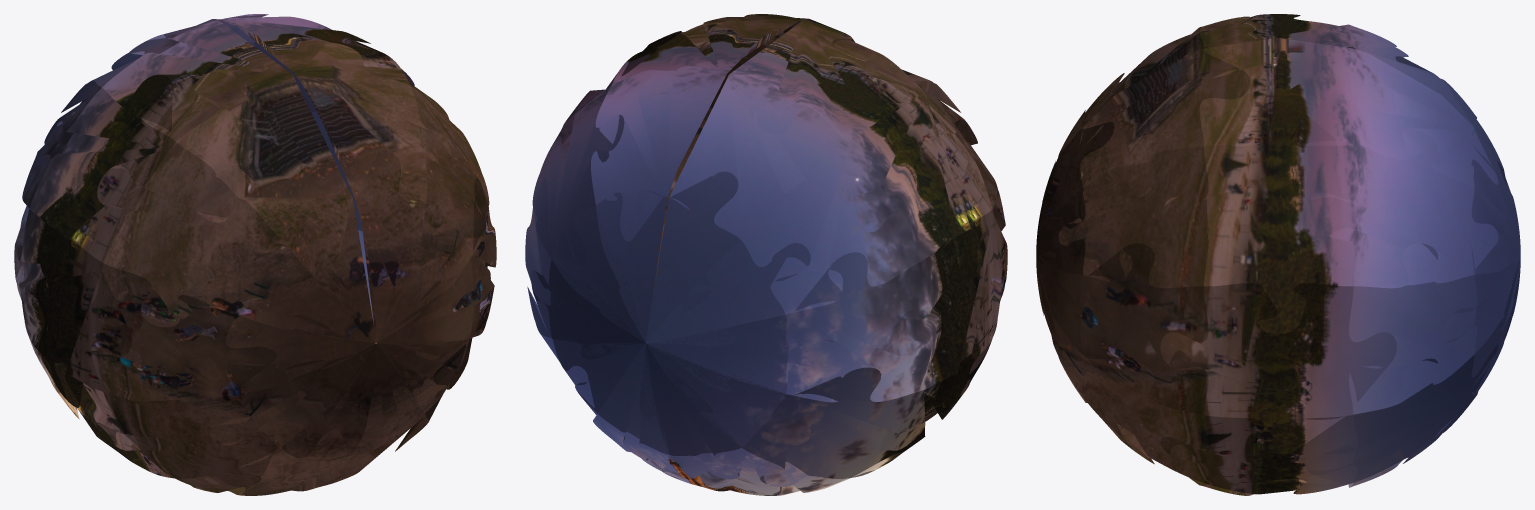
Rendered from easy-puzzle-v0.fbx.
3 views of the same model, side by side, from view 1: azimuth 30°, elevation 25°; view 2: azimuth 150°, elevation 25°; view 3: azimuth 270°, elevation 25° (orthographic).
Visible parts, largest first — view 1: Street View 360 1.037, Street View 360 1.005, Street View 360 1.034, Street View 360 1.038, Street View 360 1.026, Street View 360 1.036, Street View 360 1.039, Street View 360 1.004, Street View 360 1.044, Street View 360 1.045, Street View 360 1.035, Street View 360 1.047 (+16 smaller); view 2: Street View 360 1.017, Street View 360 1.034, Street View 360 1.018, Street View 360 1.003, Street View 360 1.025, Street View 360 1.019, Street View 360 1.026, Street View 360 1.004, Street View 360 1.002, Street View 360 1.015, Street View 360 1.024, Street View 360 1.033 (+16 smaller); view 3: Street View 360 1.032, Street View 360 1.031, Street View 360 1.024, Street View 360 1.035, Street View 360 1.033, Street View 360 1.043, Street View 360 1.023, Street View 360 1.036, Street View 360 1.030, Street View 360 1.025, Street View 360 1.042, Street View 360 1.022 (+13 smaller).
Part boxes in pixels (bbox=[...]): Street View 360 1.037: bbox=[104, 142, 280, 327]; Street View 360 1.005: bbox=[176, 69, 352, 254]; Street View 360 1.034: bbox=[29, 74, 175, 280]; Street View 360 1.038: bbox=[91, 263, 276, 402]; Street View 360 1.026: bbox=[14, 209, 131, 406]; Street View 360 1.036: bbox=[295, 43, 451, 204]; Street View 360 1.039: bbox=[96, 368, 279, 487]; Street View 360 1.004: bbox=[102, 20, 291, 141]; Street View 360 1.044: bbox=[354, 150, 426, 342]; Street View 360 1.045: bbox=[221, 239, 375, 343]; Street View 360 1.035: bbox=[411, 86, 489, 265]; Street View 360 1.047: bbox=[217, 344, 375, 447]; Street View 360 1.017: bbox=[741, 142, 917, 314]; Street View 360 1.034: bbox=[845, 74, 992, 275]; Street View 360 1.018: bbox=[785, 252, 929, 402]; Street View 360 1.003: bbox=[669, 74, 844, 239]; Street View 360 1.025: bbox=[591, 66, 726, 241]; Street View 360 1.019: bbox=[742, 367, 925, 484]; Street View 360 1.026: bbox=[889, 209, 1007, 407]; Street View 360 1.004: bbox=[729, 20, 919, 141]; Street View 360 1.002: bbox=[646, 171, 740, 342]; Street View 360 1.015: bbox=[646, 240, 810, 346]; Street View 360 1.024: bbox=[532, 87, 624, 265]; Street View 360 1.033: bbox=[611, 14, 800, 103]; Street View 360 1.032: bbox=[1163, 101, 1357, 334]; Street View 360 1.031: bbox=[1160, 283, 1396, 453]; Street View 360 1.024: bbox=[1310, 128, 1498, 288]; Street View 360 1.035: bbox=[1058, 146, 1208, 288]; Street View 360 1.033: bbox=[1199, 38, 1396, 146]; Street View 360 1.043: bbox=[1080, 243, 1208, 414]; Street View 360 1.023: bbox=[1349, 243, 1477, 414]; Street View 360 1.036: bbox=[1080, 48, 1250, 197]; Street View 360 1.030: bbox=[1160, 415, 1357, 494]; Street View 360 1.025: bbox=[1349, 48, 1498, 187]; Street View 360 1.042: bbox=[1058, 345, 1208, 482]; Street View 360 1.022: bbox=[1308, 345, 1498, 482].
Size of the model in its own units: 7180 by 7221 by 7228.
